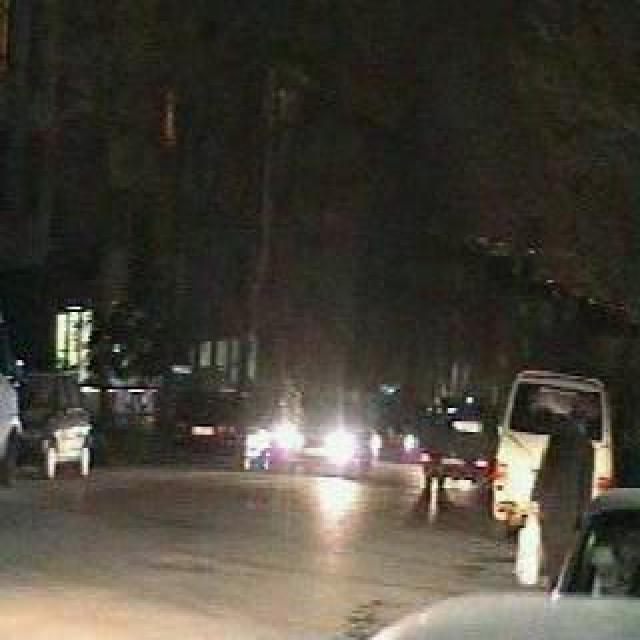other: (263, 396, 375, 535)
